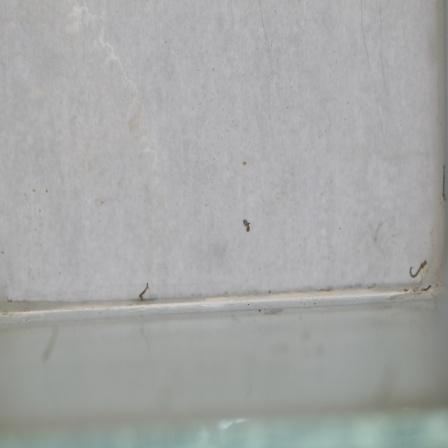Jentik-Nyamuk: (405, 257, 433, 282), (132, 276, 156, 303), (236, 215, 257, 238)
